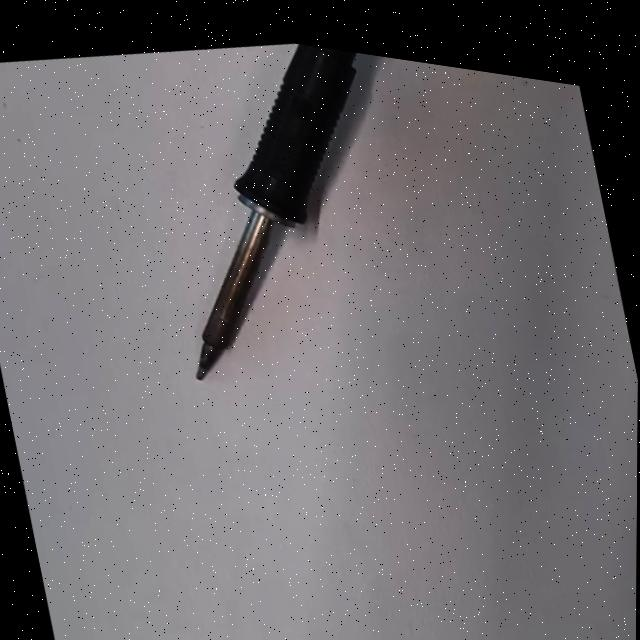soldering_iron: (129, 20, 428, 415)
